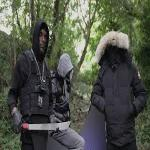Golok: (7, 112, 74, 136)
